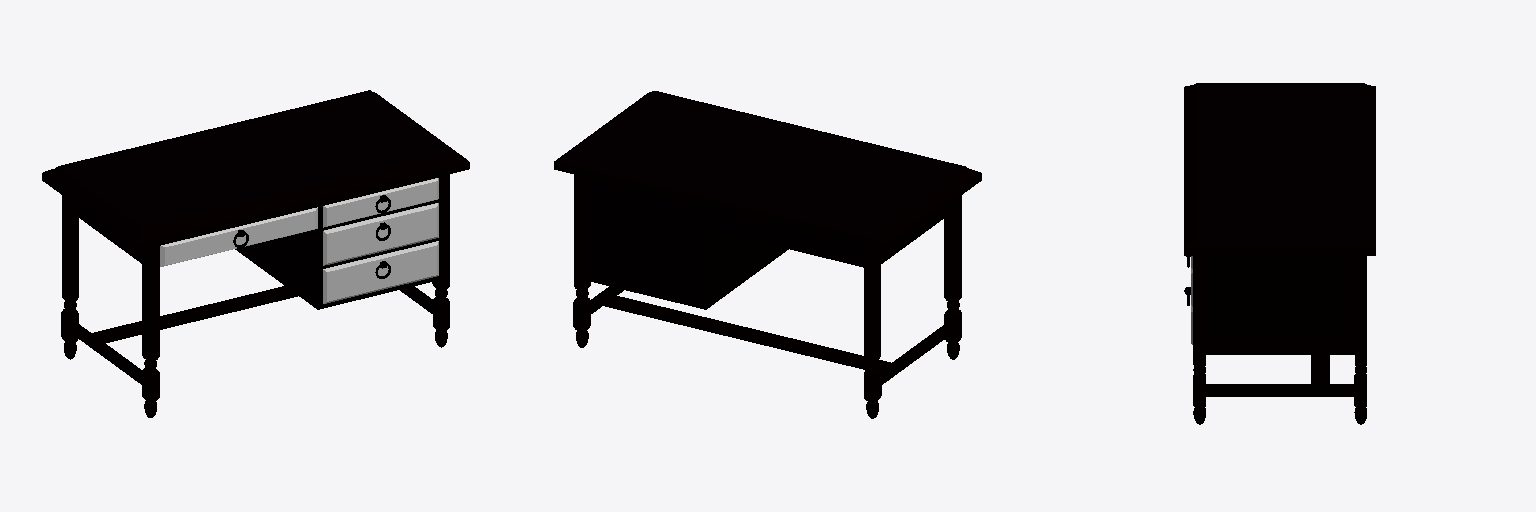
Rendered from mesa.obj.
3 renders of one model, left to right at view 1: azimuth 30°, elevation 25°; view 2: azimuth 150°, elevation 25°; view 3: azimuth 270°, elevation 25°, orthographic.
Parts seen in each view (by area): view 1: Desk_円.001, Board.Drawer_Lside&lower.001_平面.003, Drawer.RMid_平面.017, Drawer.RLow_平面.002, Drawer.LTop_平面.025, Bar.Center_lower.001_立方体.006, Drawer.RTop_平面.021, Bar.L_lower.001_立方体.004, Bar.L_upper.001_立方体.003; view 2: Desk_円.001, Board.Drawer_Rear.001_平面.001, Bar.Center_lower.001_立方体.006, Bar.Rear_upperL.001_立方体.002, Board.Drawer_Lside&lower.001_平面.003, Bar.L_lower.001_立方体.004, Bar.L_upper.001_立方体.003; view 3: Desk_円.001, Board.Drawer_Rside_平面.013, Bar.R_middle.001_立方体.010, Bar.R_Lower.001_立方体.005, Bar.Center_lower.001_立方体.006.
Boxes of the visible parts, box(x1,y1,x2,y2) form: Desk_円.001: box(42, 90, 469, 417); Board.Drawer_Lside&lower.001_平面.003: box(235, 206, 438, 309); Drawer.RMid_平面.017: box(323, 203, 438, 265); Drawer.RLow_平面.002: box(323, 241, 438, 303); Drawer.LTop_平面.025: box(160, 207, 317, 266); Bar.Center_lower.001_立方体.006: box(92, 286, 297, 342); Drawer.RTop_平面.021: box(323, 178, 438, 227); Bar.L_lower.001_立方体.004: box(72, 322, 141, 384); Bar.L_upper.001_立方体.003: box(69, 201, 141, 263); Desk_円.001: box(554, 91, 981, 418); Board.Drawer_Rear.001_平面.001: box(585, 177, 707, 309); Bar.Center_lower.001_立方体.006: box(600, 294, 890, 369); Bar.Rear_upperL.001_立方体.002: box(706, 207, 863, 267); Board.Drawer_Lside&lower.001_平面.003: box(708, 230, 788, 307); Bar.L_lower.001_立方体.004: box(881, 322, 951, 384); Bar.L_upper.001_立方体.003: box(881, 201, 953, 263); Desk_円.001: box(1184, 83, 1375, 424); Board.Drawer_Rside_平面.013: box(1206, 258, 1354, 341); Bar.R_middle.001_立方体.010: box(1206, 342, 1354, 354); Bar.R_Lower.001_立方体.005: box(1206, 384, 1353, 396); Bar.Center_lower.001_立方体.006: box(1311, 355, 1329, 383).
Size of the model in its own units: 1.8 by 1 by 0.9031.